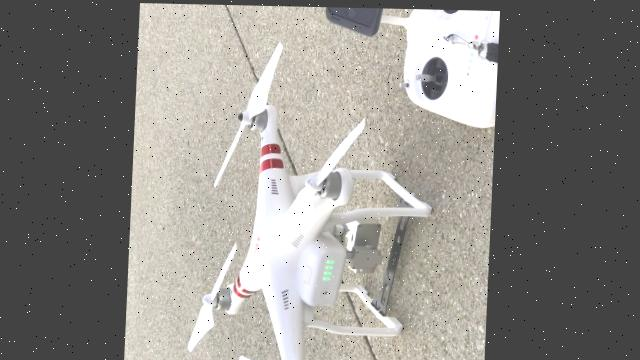drone: (309, 6, 500, 360)
